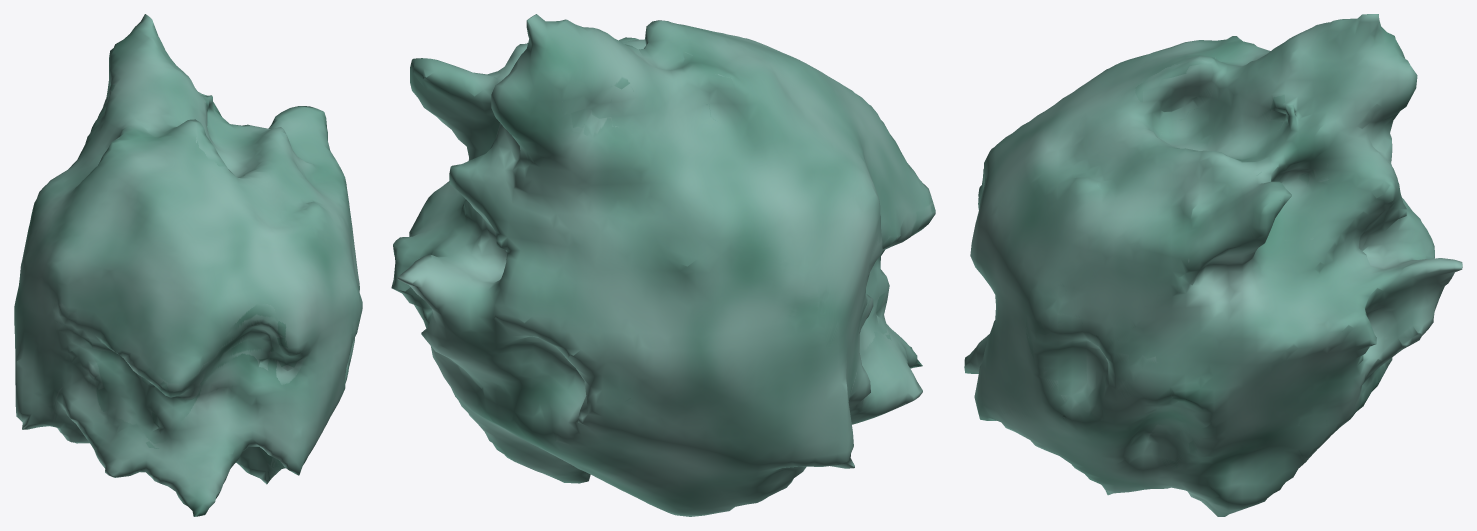
The model's file is Meteor_004.glb.
3 renders of one model, left to right at view 1: azimuth 30°, elevation 25°; view 2: azimuth 150°, elevation 25°; view 3: azimuth 270°, elevation 25°, orthographic. The views are drawn at different scales.
Visible parts, largest first — view 1: _004; view 2: _004; view 3: _004.
Part boxes in pixels (x1,y1,x2,y2): _004: (14,14,362,516); _004: (391,14,935,516); _004: (964,14,1462,516).
Size of the model in its own units: 3.9 by 4.67 by 4.4.
1 material, 1 textured.
